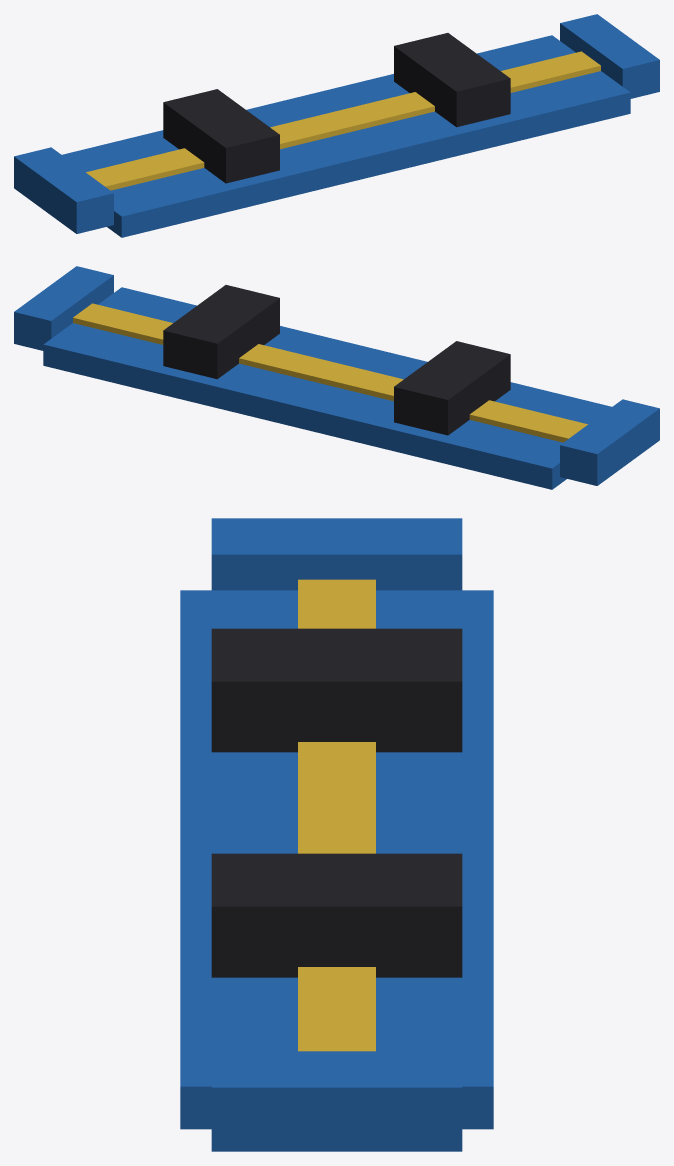
File: ntu-snowboard.glb
3 renders of one model, top to bottom at view 1: azimuth 30°, elevation 25°; view 2: azimuth 150°, elevation 25°; view 3: azimuth 270°, elevation 25°, orthographic. The views are drawn at different scales.
Parts seen in each view (by area): view 1: box-prop; view 2: box-prop; view 3: box-prop.
Boxes of the visible parts, bbox=[...] form: box-prop: bbox=[14, 14, 659, 237]; box-prop: bbox=[14, 266, 659, 489]; box-prop: bbox=[180, 518, 493, 1151].
Size of the model in its own units: 1.72 by 0.16 by 0.4.
